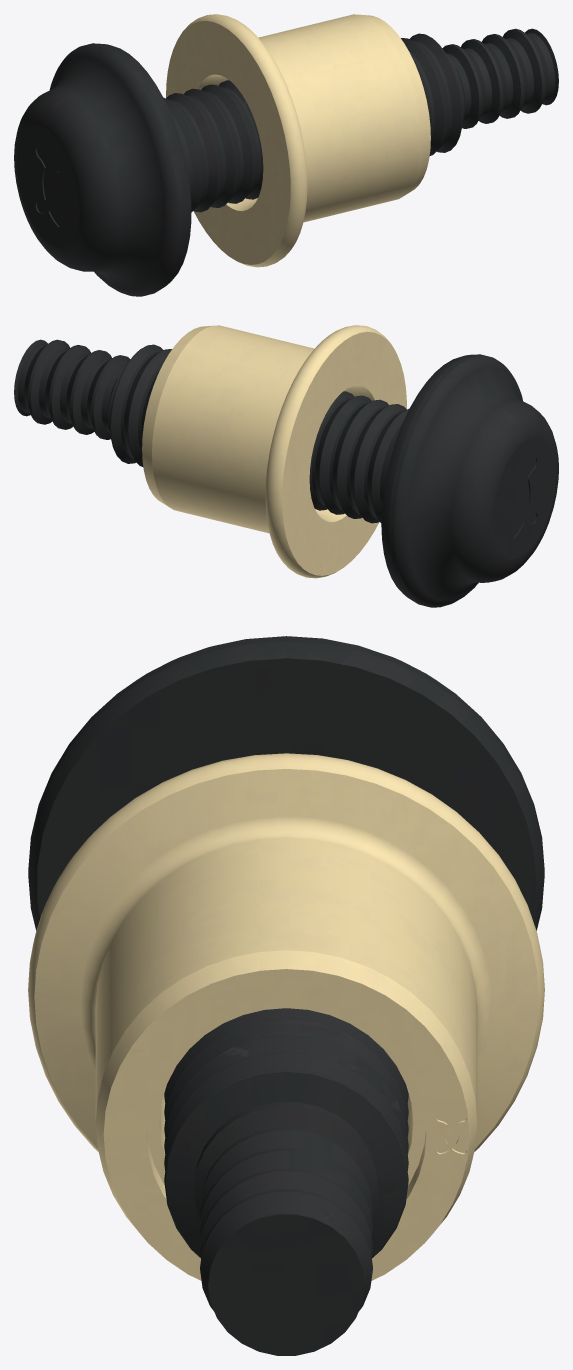
The model's file is large_bobtail-transformed.glb.
The picture shows the model from 3 angles, top to bottom: view 1: azimuth 30°, elevation 25°; view 2: azimuth 150°, elevation 25°; view 3: azimuth 270°, elevation 25°; orthographic projection. The views are drawn at different scales.
Parts seen in each view (by area): view 1: 1, 2; view 2: 1, 2; view 3: 2, 1.
Part boxes in pixels (left/top/right/bottom): 1: left=14, top=28, right=558, bottom=296; 2: left=166, top=14, right=430, bottom=267; 1: left=14, top=339, right=558, bottom=607; 2: left=142, top=325, right=406, bottom=578; 2: left=28, top=753, right=544, bottom=1280; 1: left=28, top=636, right=544, bottom=1355.
Bounding box in the file's own units: 0.0742 × 0.0338 × 0.0338.
Materials: 2 (2 with a texture image).
